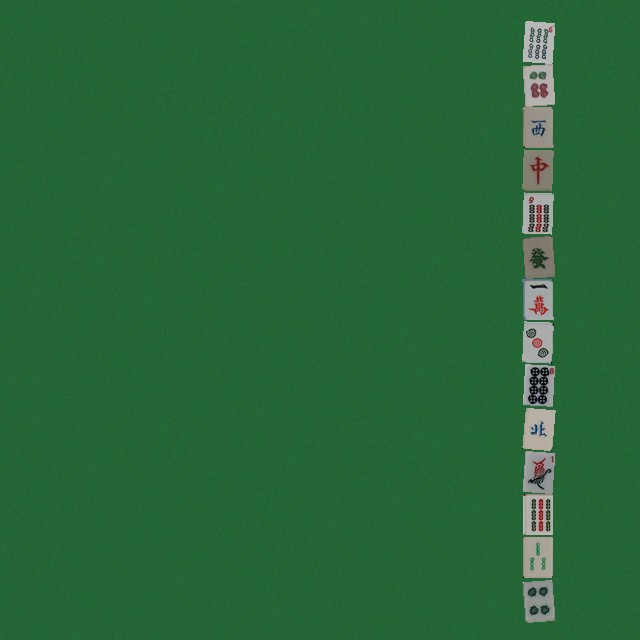tile: (522, 20, 552, 61), (522, 63, 552, 104), (522, 106, 552, 147), (522, 149, 552, 190), (522, 192, 552, 233), (522, 235, 552, 276), (522, 278, 552, 319), (522, 321, 552, 362), (522, 364, 552, 405), (522, 407, 552, 448), (522, 450, 552, 491), (522, 493, 552, 534), (522, 536, 552, 577), (522, 579, 552, 620)
